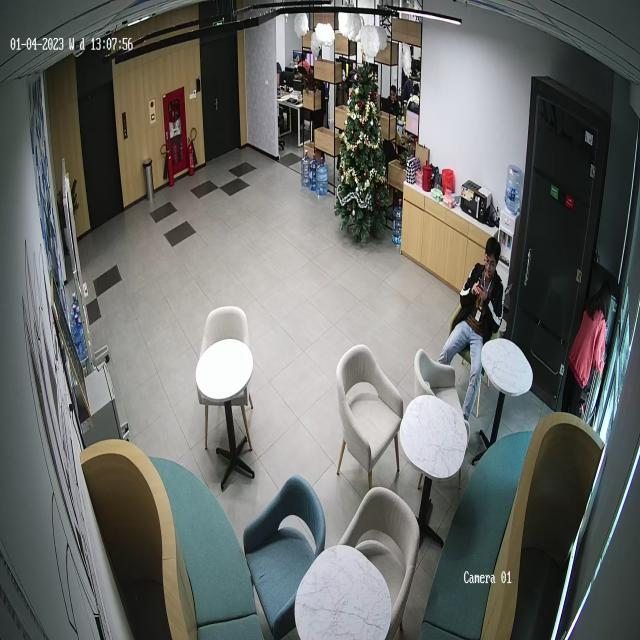person: (437, 237, 504, 424), (386, 85, 402, 117)
